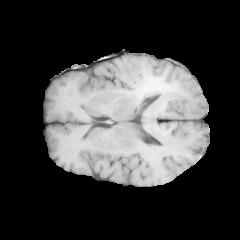glioma: (80, 56, 174, 119)
